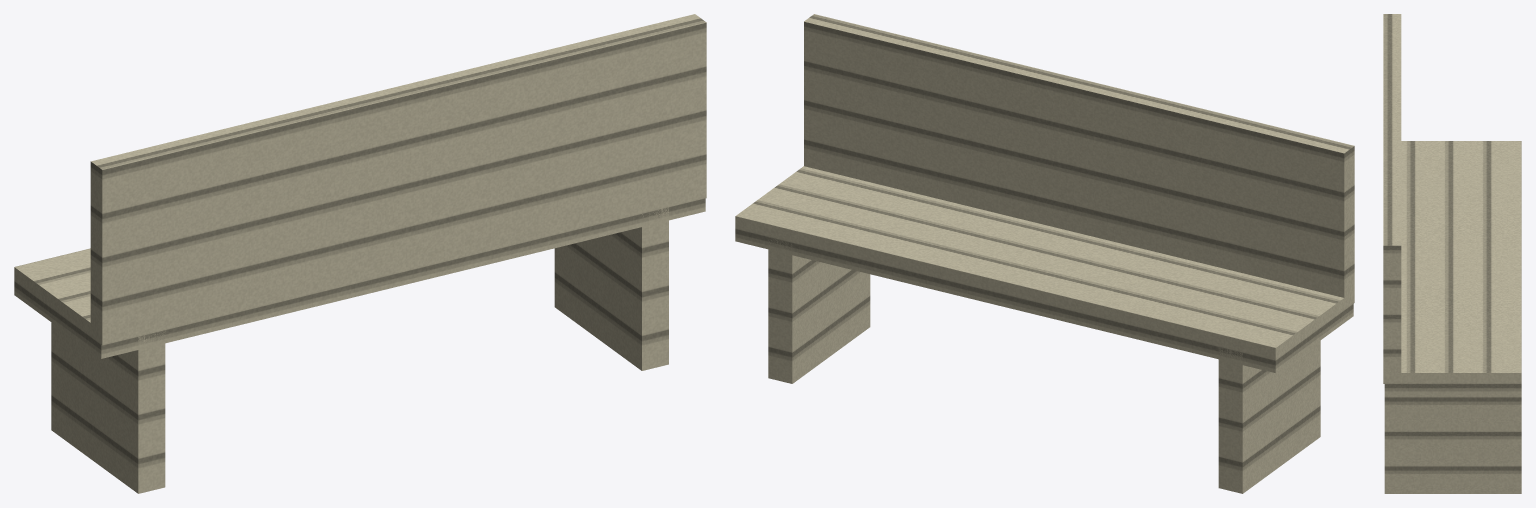
The model's file is park_bench.glb.
3 renders of one model, left to right at view 1: azimuth 30°, elevation 25°; view 2: azimuth 150°, elevation 25°; view 3: azimuth 270°, elevation 25°, orthographic. The views are drawn at different scales.
Visible parts, largest first — view 1: park_bench-col; view 2: park_bench-col; view 3: park_bench-col.
Boxes of the visible parts, bbox=[...] form: park_bench-col: bbox=[14, 14, 706, 493]; park_bench-col: bbox=[735, 14, 1354, 493]; park_bench-col: bbox=[1383, 14, 1521, 493].
Bounding box in the file's own units: 1.8 × 0.95 × 0.455.
1 material, 1 textured.
